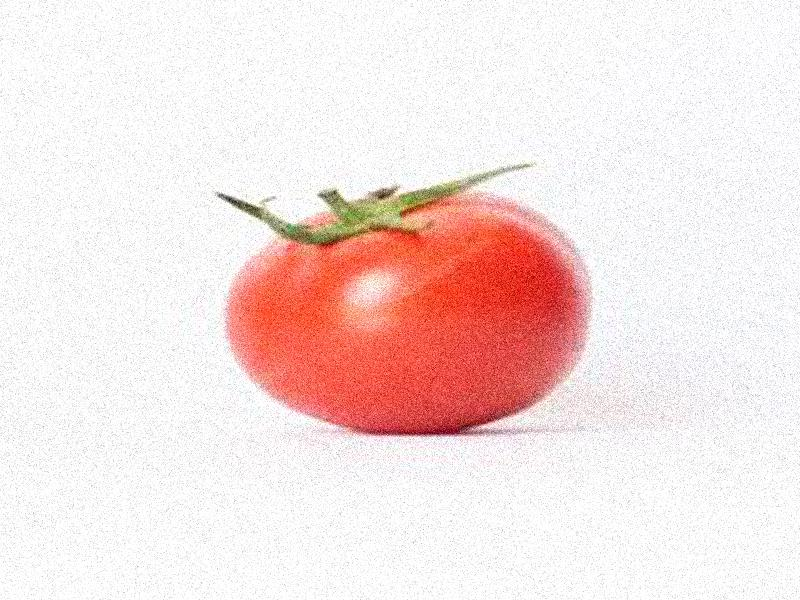Tomato: (226, 194, 596, 435)
